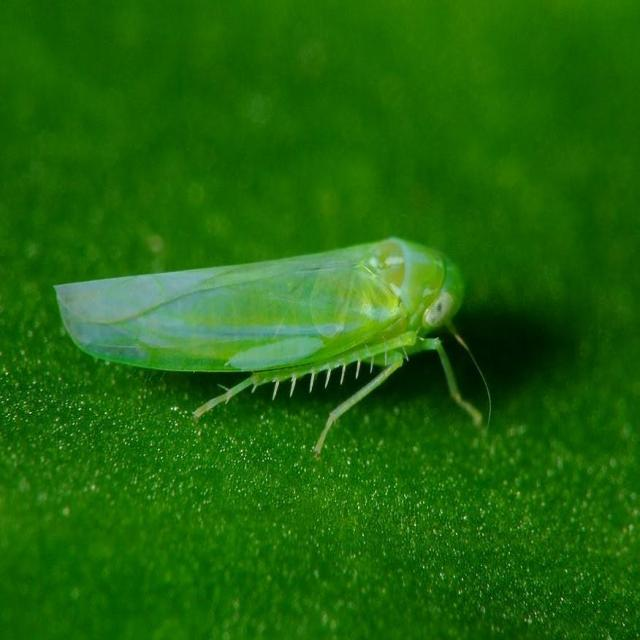Yechan: (34, 232, 501, 438)
